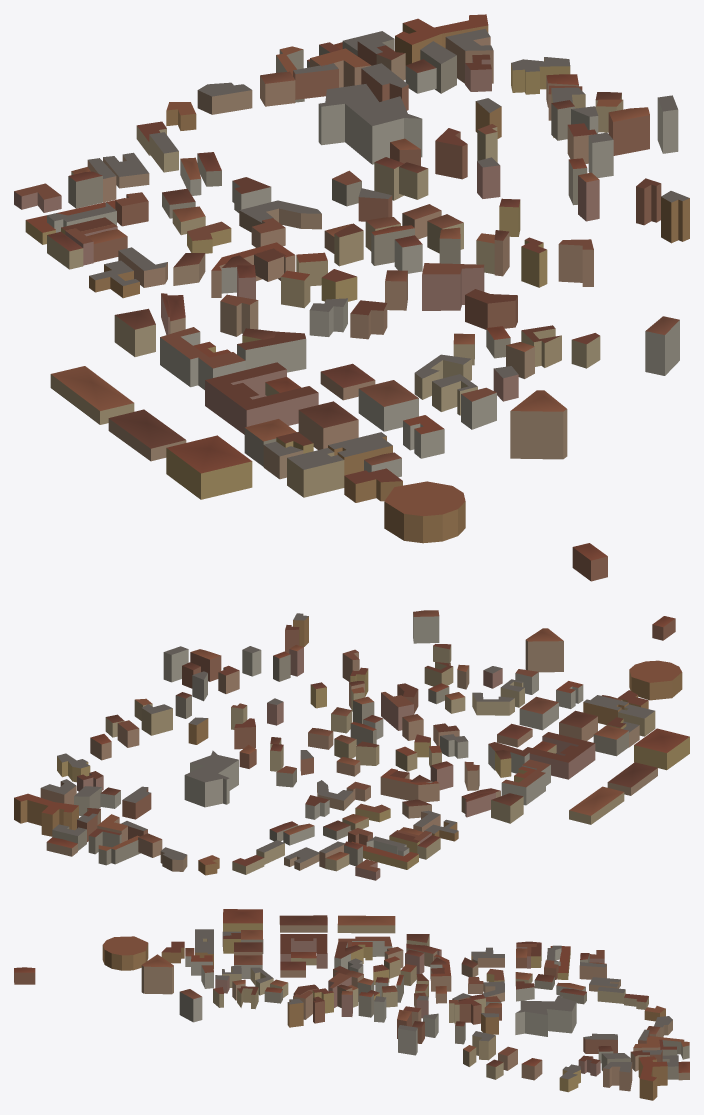
File: SM_Fondale_Citta_Colle_01_LOD1.fbx
3 renders of one model, top to bottom at view 1: azimuth 30°, elevation 25°; view 2: azimuth 150°, elevation 25°; view 3: azimuth 270°, elevation 25°, orthographic. The views are drawn at different scales.
Parts seen in each view (by area): view 1: SM_Fondale_Citta_Colle_01_LOD1; view 2: SM_Fondale_Citta_Colle_01_LOD1; view 3: SM_Fondale_Citta_Colle_01_LOD1.
Part boxes in pixels (left/top/right/bottom): SM_Fondale_Citta_Colle_01_LOD1: left=14, top=14, right=689, bottom=581; SM_Fondale_Citta_Colle_01_LOD1: left=14, top=610, right=689, bottom=880; SM_Fondale_Citta_Colle_01_LOD1: left=14, top=909, right=689, bottom=1100.
Bounding box in the file's own units: 49006 × 74992 × 9185.
